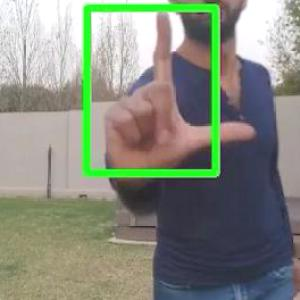land_hand: (101, 0, 258, 173)
